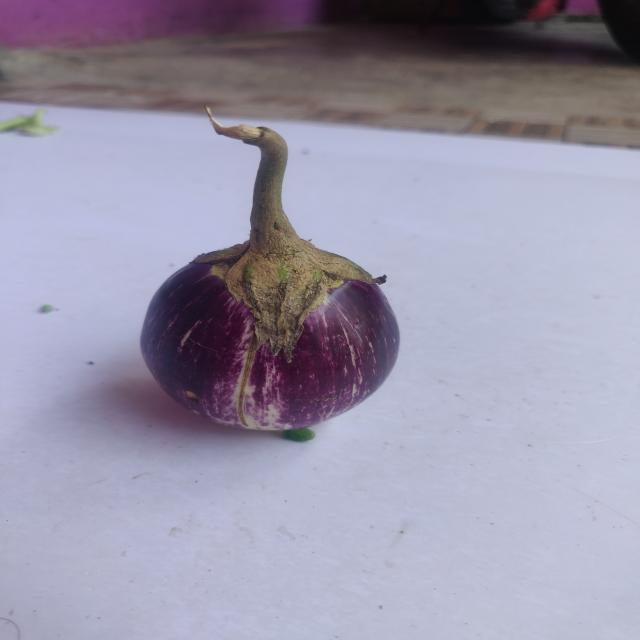Eggplant: (117, 110, 421, 458)
